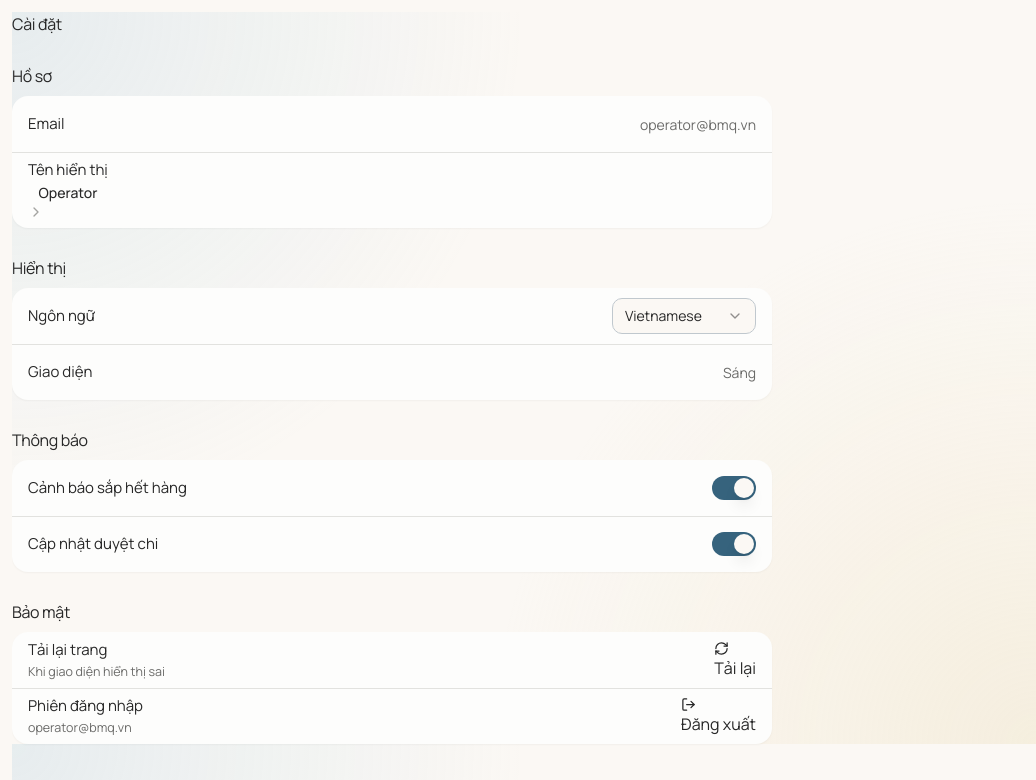
Test: synthetic Chrome Translate DOM replacement resilience › Settings translated language select survives open, retranslate, and switch back on desktop
The image size is (1036, 780).
Click the dropdown labelled "Vietnamese" at (684, 316), box [612,298,756,334]
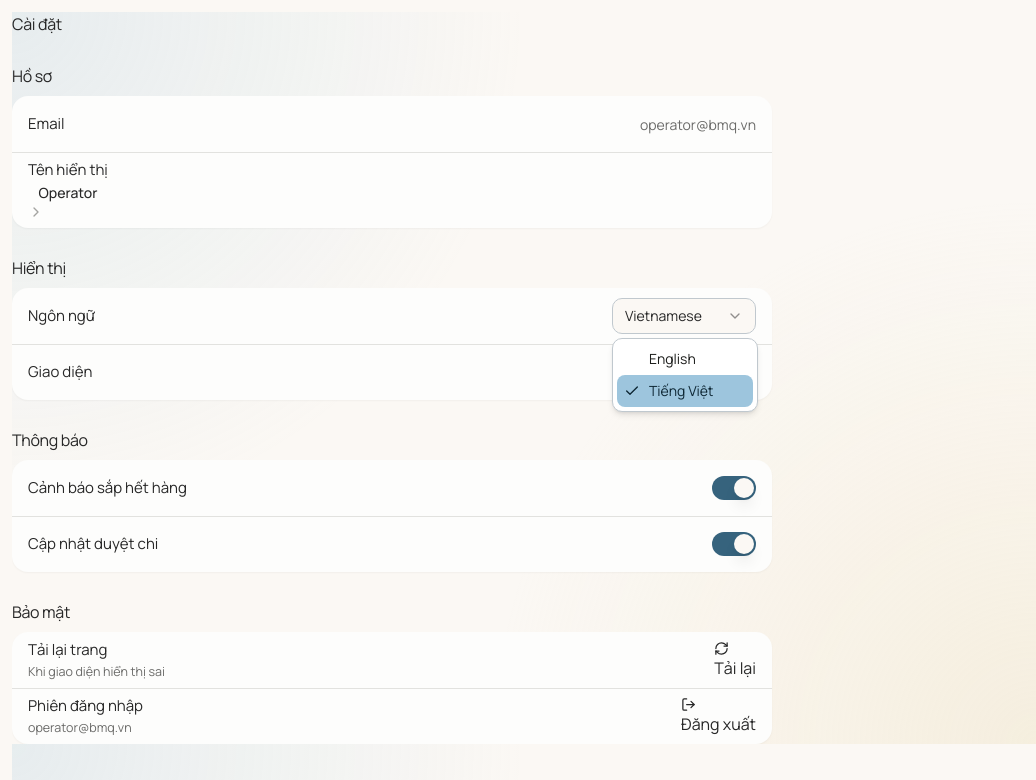
Expected: the list is shown, [612,338,758,412]
Click the option "English" at (672, 358), box [649,349,696,368]
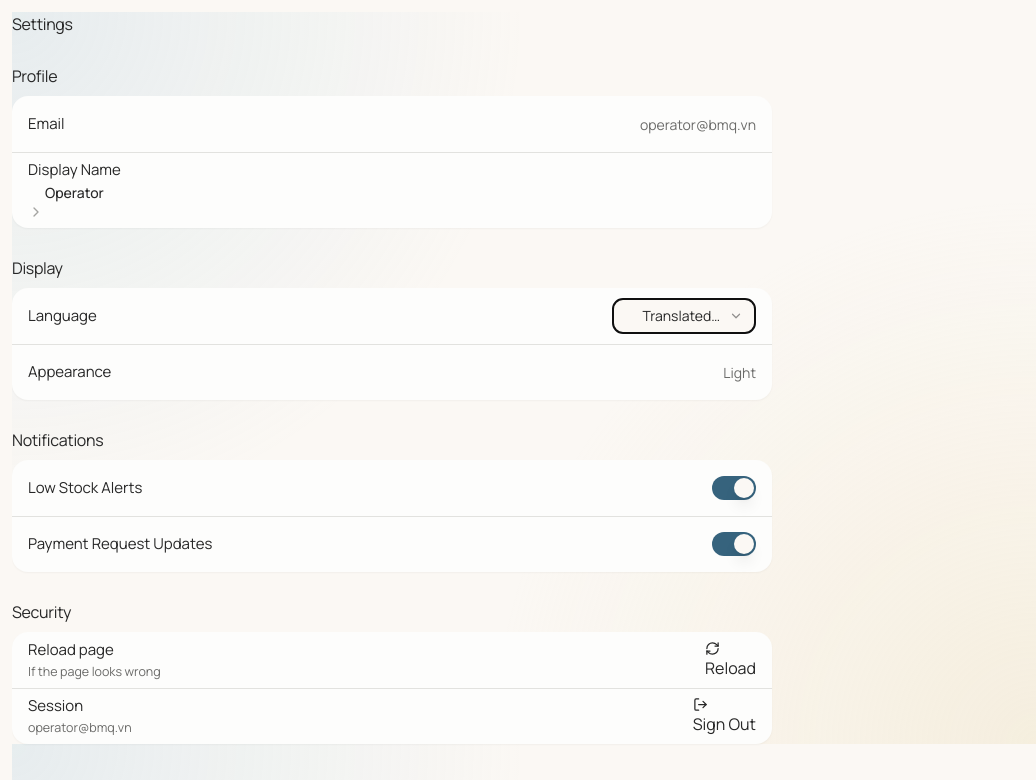
Expected: the dropdown labelled "Translated English" is shown
Click the dropdown labelled "Translated English" at (684, 316), box [612,298,756,334]
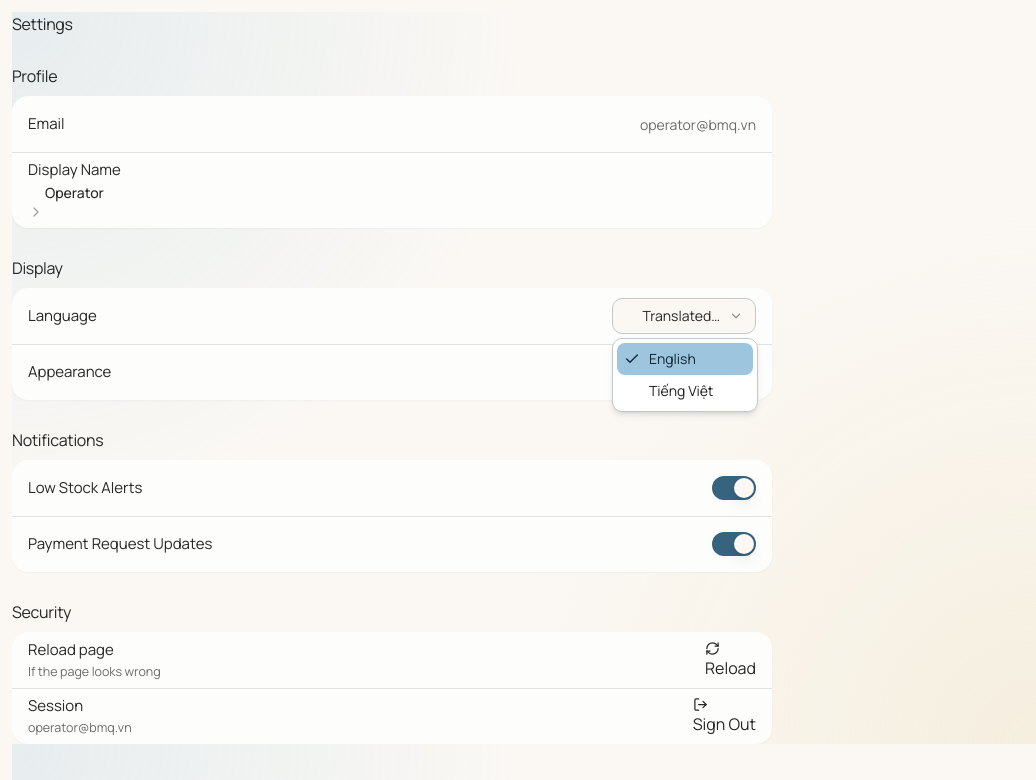
Expected: the list is shown, [612,338,758,412]
Click the option "Tiếng Việt" at (681, 390), box [649,381,713,400]
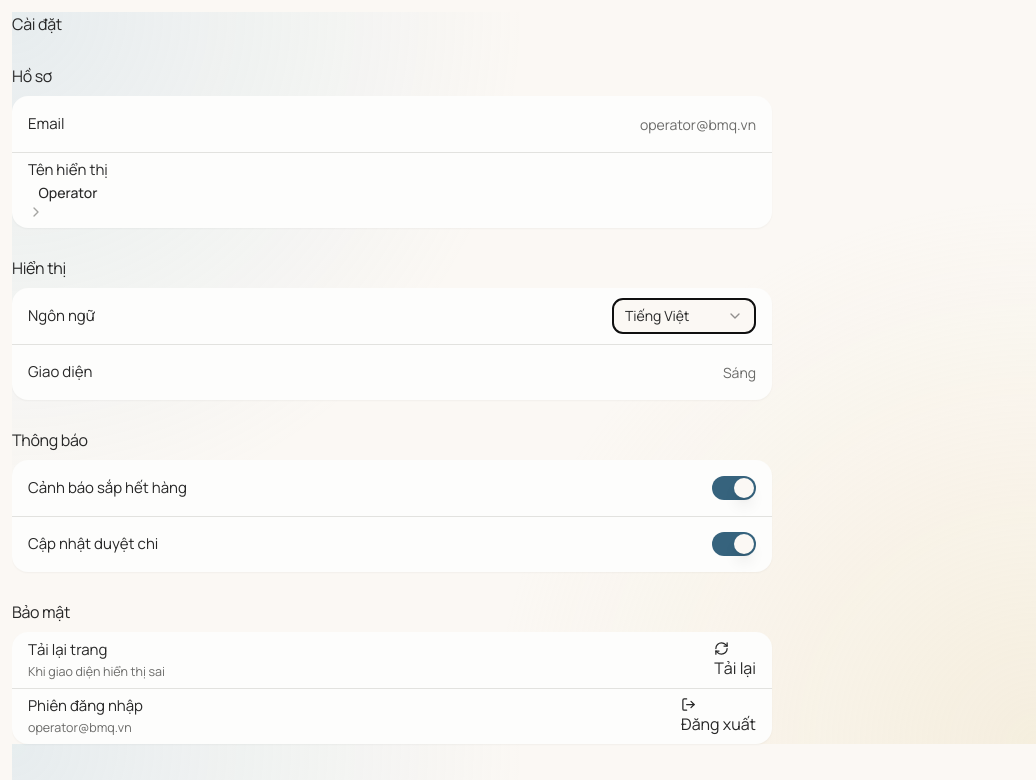
Expected: the dropdown labelled "Tiếng Việt" is shown, [612,298,756,334]
